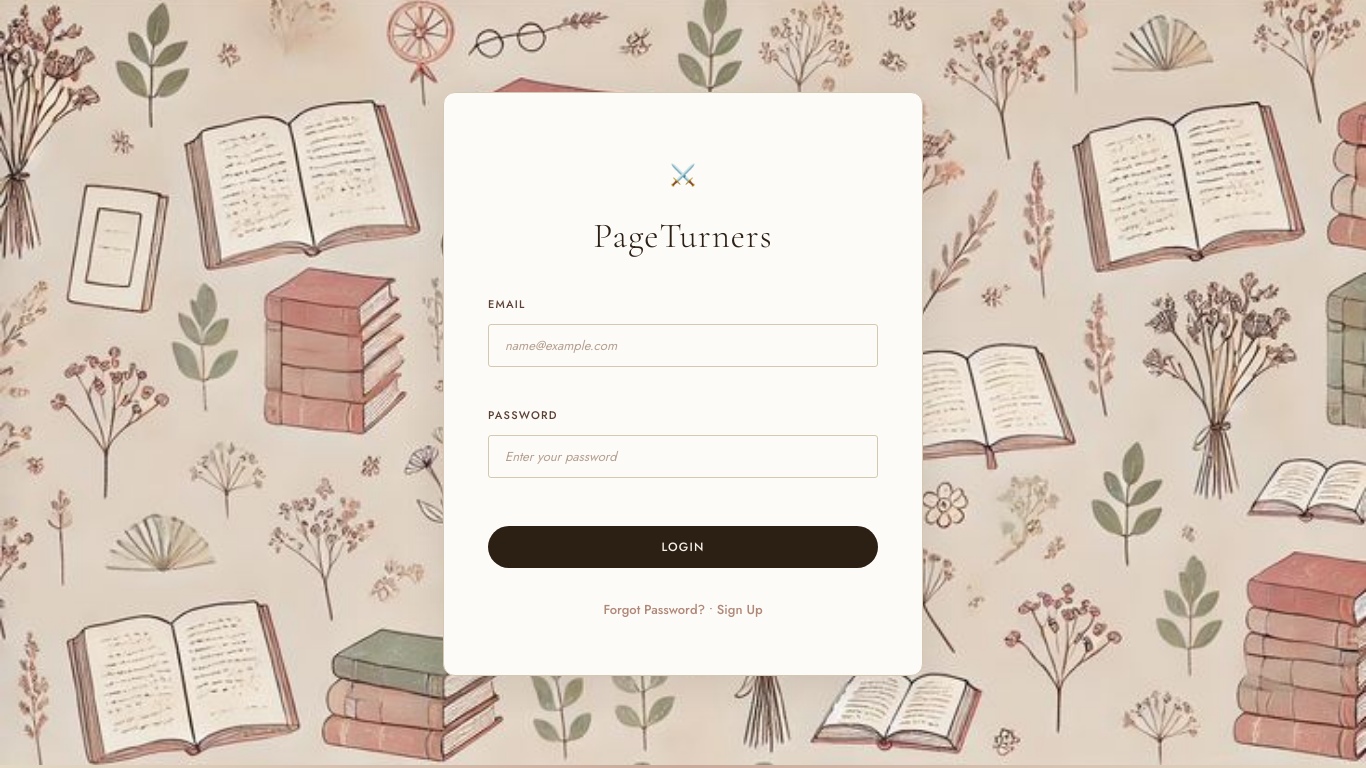
Login Component - Frontend Tests › Form Rendering › Form Validation › should show error when email is empty
Click the button with test id "login-submit-btn" at (683, 547), box [488,526,878,568]
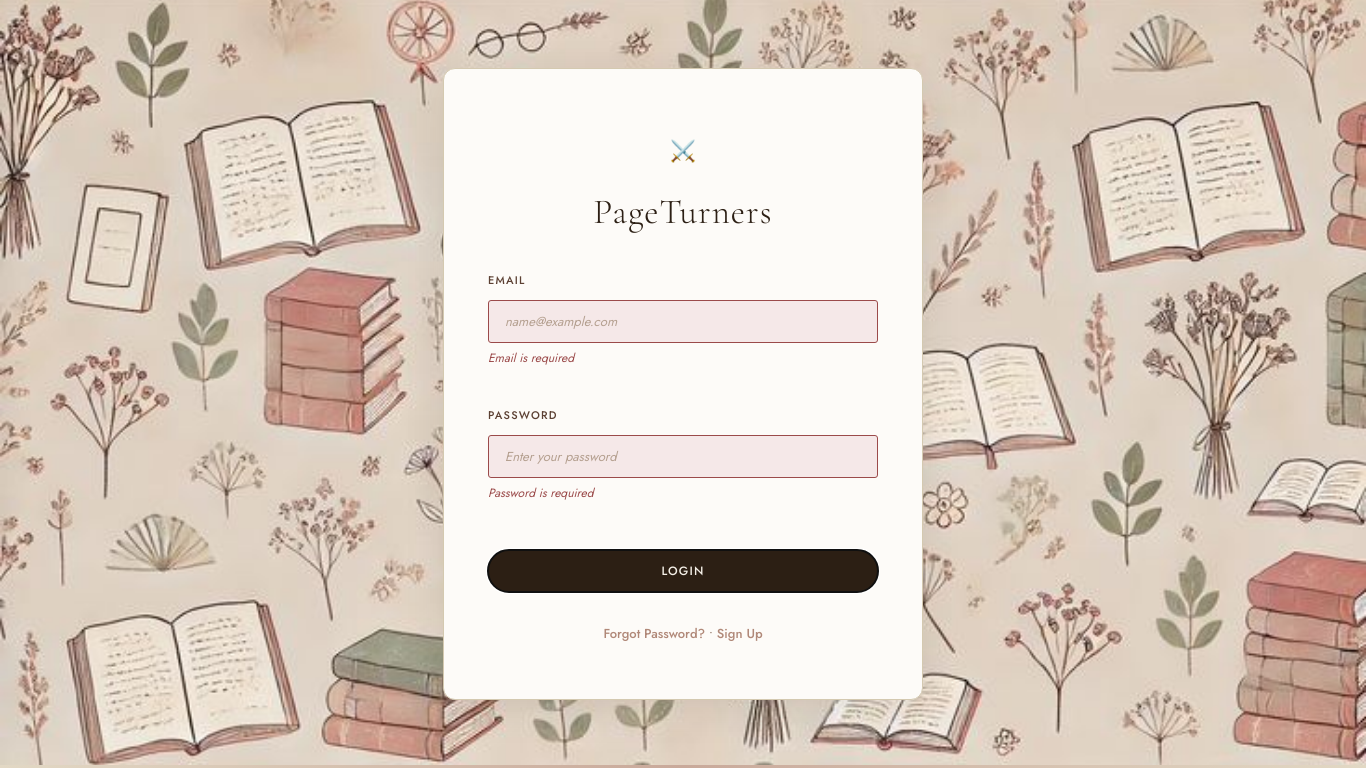
Expected: the text "Email is required" is shown, [488,349,574,367]
